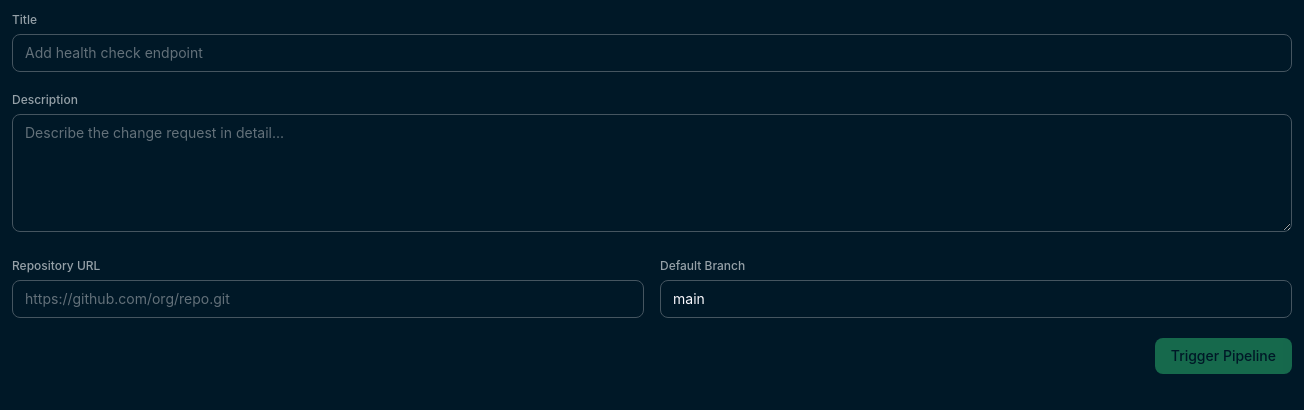
Test case: CRForm › disables submit when URL is invalid
The width and height of the screenshot is (1304, 410).
Step 1. Type "My CR" into the field with placeholder "Add health check endpoint" → [652, 53], box [12, 34, 1292, 72]
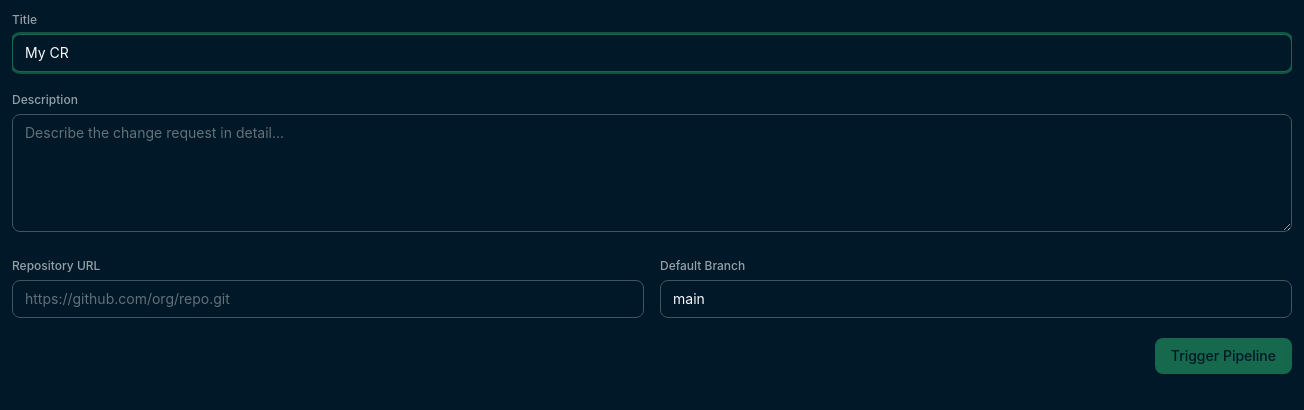
Step 2. Type "Details" into the text box with placeholder "Describe the change request in detail..." → [652, 173], box [12, 114, 1292, 232]
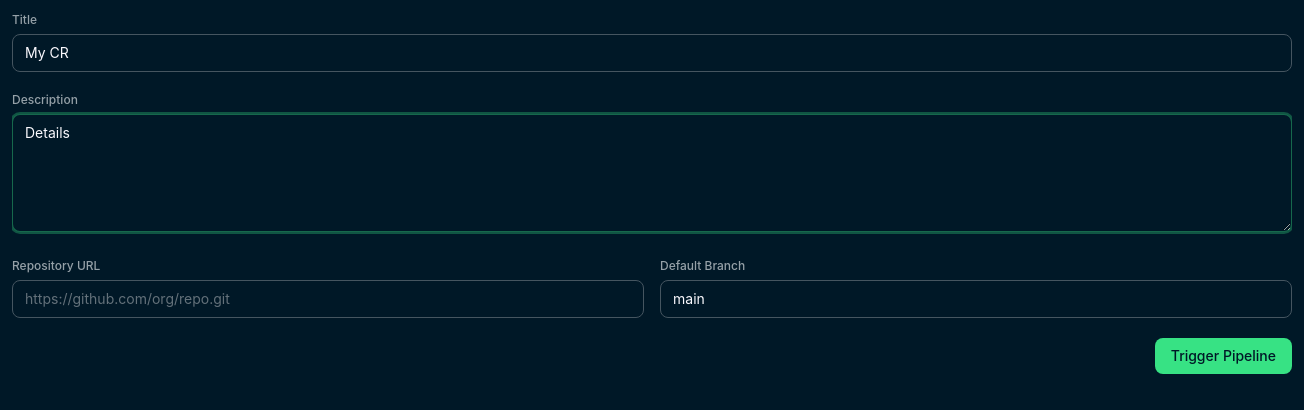
Step 3. Type "bad-url" into the field with placeholder "https://github.com/org/repo.git" → [328, 299], box [12, 280, 644, 318]
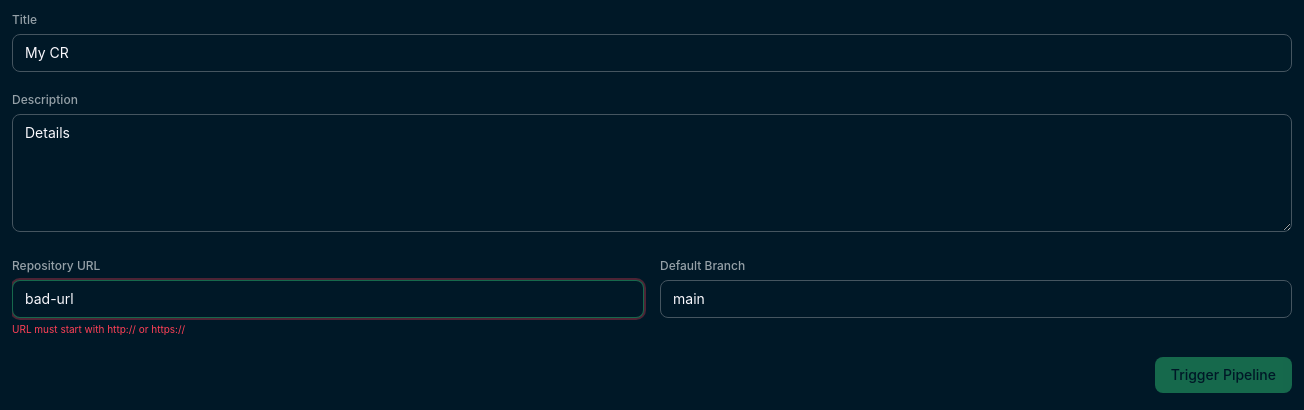
Check: the button "Trigger Pipeline" is disabled, box [1155, 357, 1292, 393]
